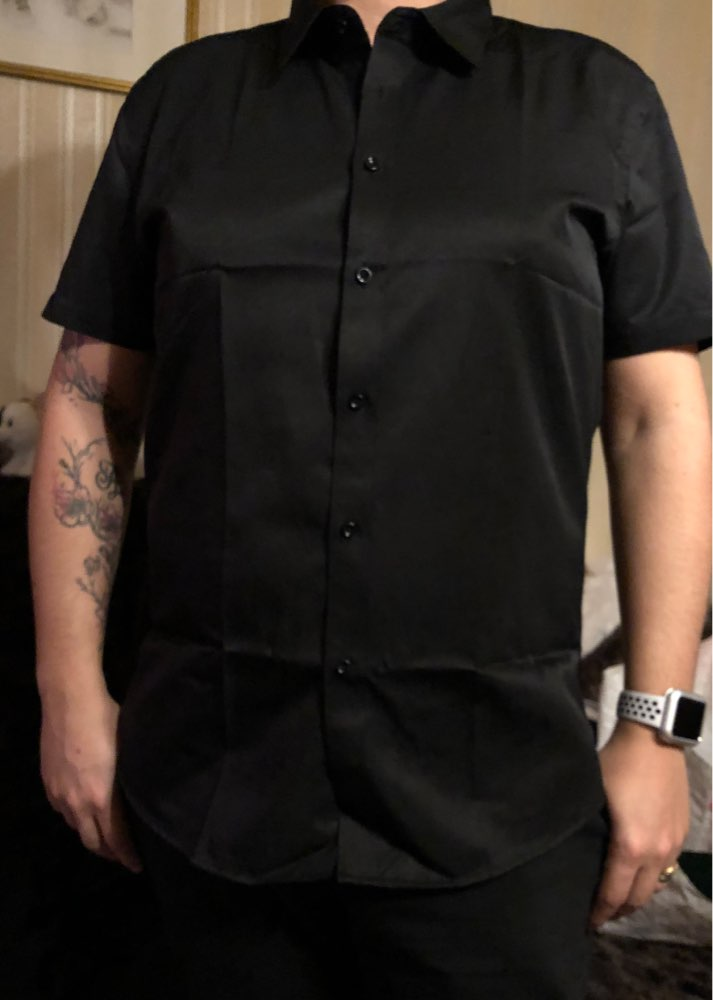shirts: (51, 1, 703, 950)
